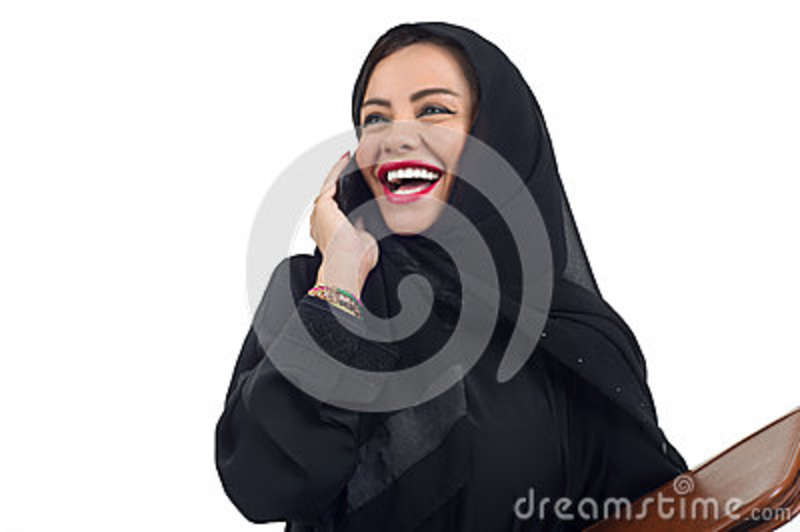phone: (337, 142, 368, 218)
talk: (310, 69, 462, 280)
